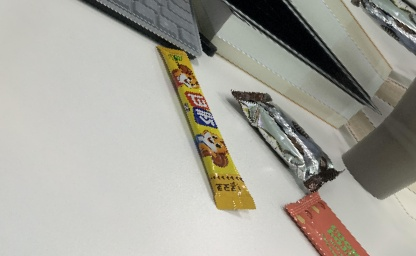jt: (103, 32, 305, 229)
mon: (214, 70, 354, 204)
pota: (269, 179, 380, 256)
